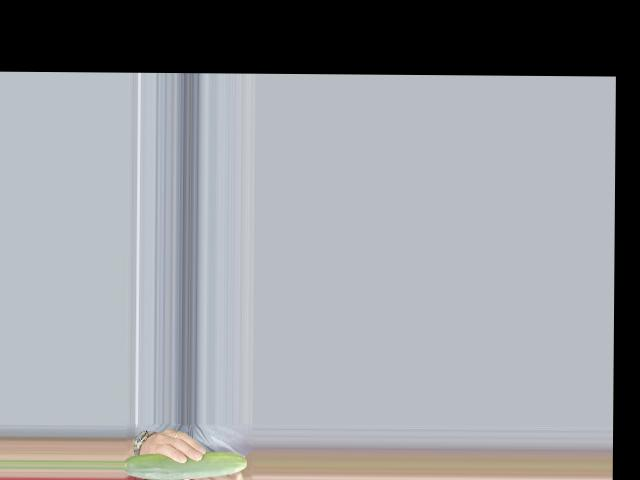cucumber: (123, 450, 246, 480)
